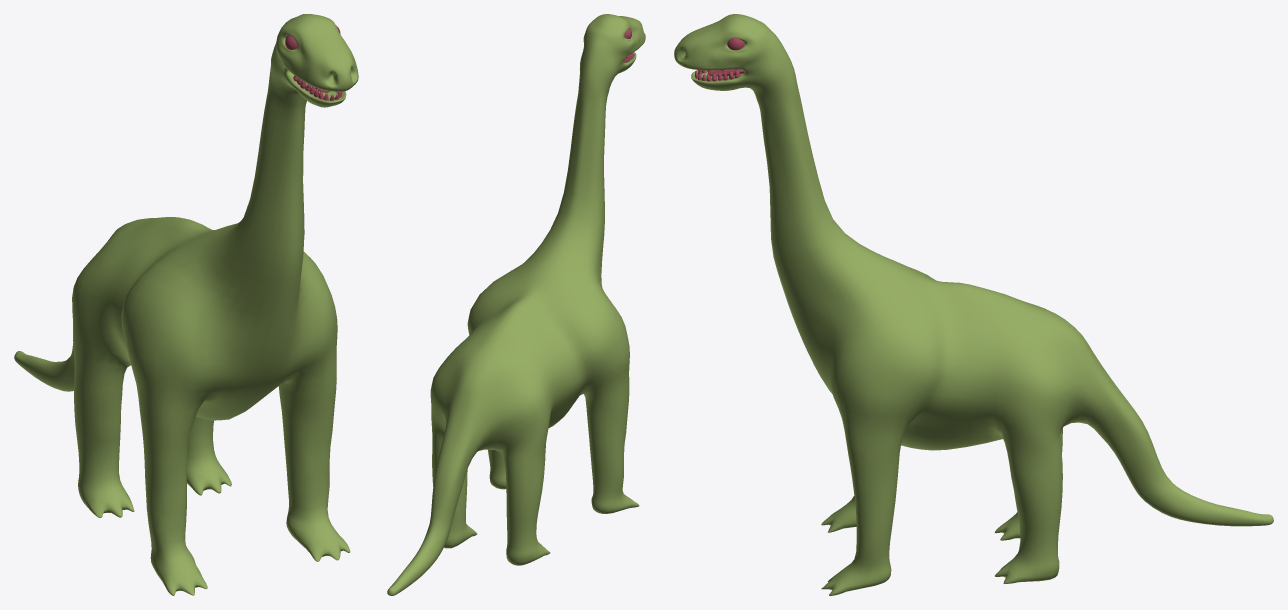
File: DiploDongus.fbx
3 views of the same model, side by side, from view 1: azimuth 30°, elevation 25°; view 2: azimuth 150°, elevation 25°; view 3: azimuth 270°, elevation 25° (orthographic). The views are drawn at different scales.
Visible parts, largest first — view 1: DinoLow; view 2: DinoLow; view 3: DinoLow.
Part boxes in pixels (box(x1,y1,x2,y2)): DinoLow: box(14, 14, 358, 595); DinoLow: box(387, 14, 645, 595); DinoLow: box(674, 14, 1273, 595).
Size of the model in its own units: 206 by 601 by 605.
